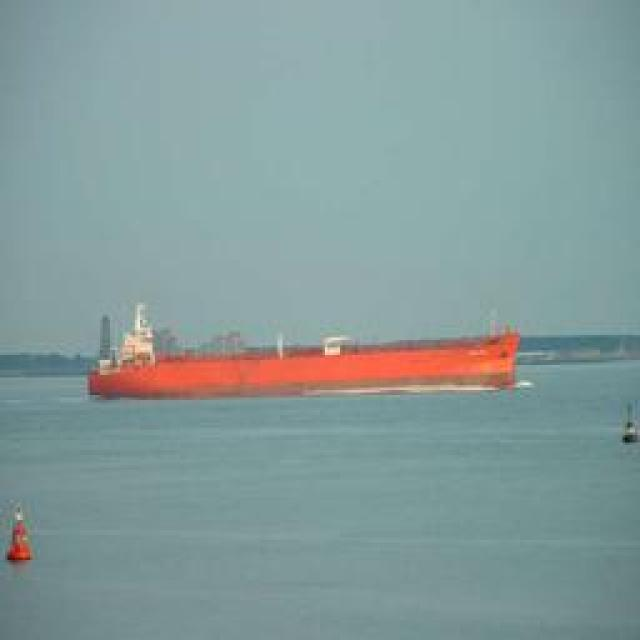CIV_Ship: (81, 318, 519, 400)
